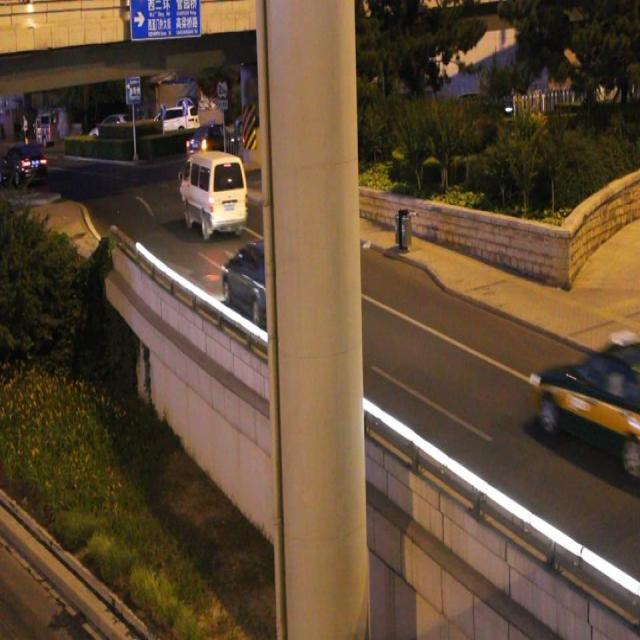car: (528, 333, 640, 470), (222, 238, 314, 332)
truck: (179, 151, 249, 235)
